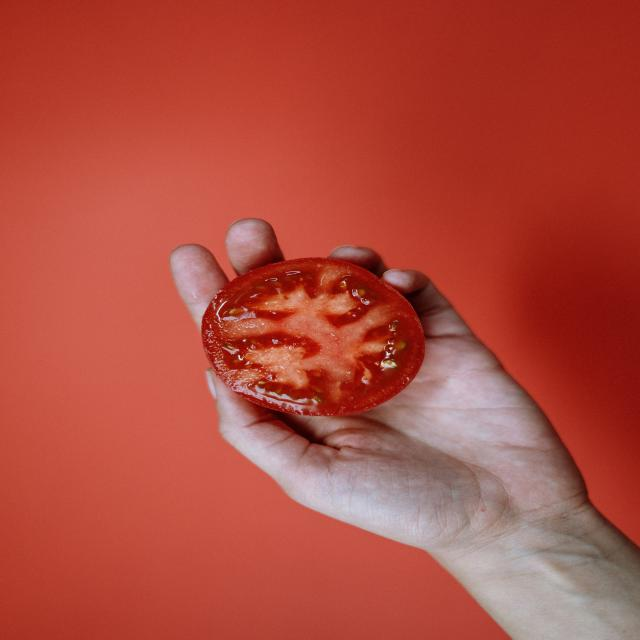Tomato: (184, 254, 425, 421)
